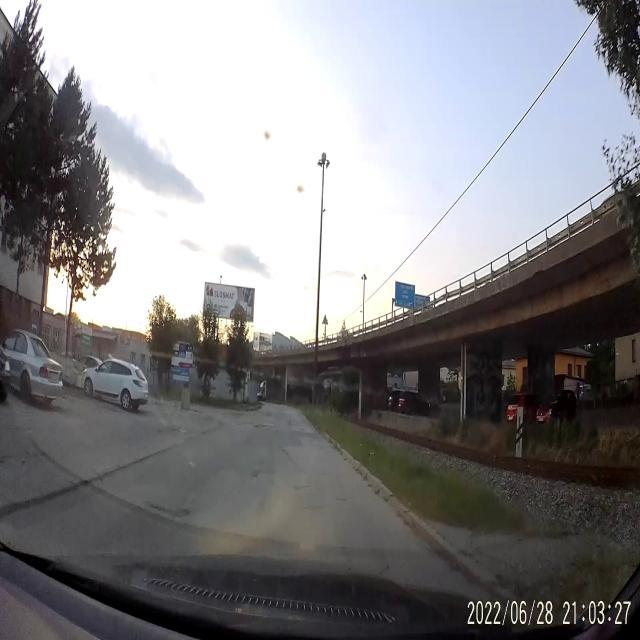Pothole: (146, 501, 192, 521), (254, 421, 274, 431), (335, 495, 348, 505), (251, 470, 259, 480)
